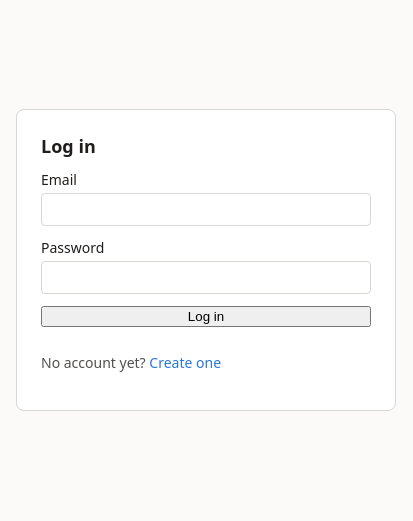
Test: LoginGate › signs up with name, email and password only, then says approval is needed
The image size is (413, 521).
Step 1. Click the button "Create one" → x=185, y=362, box [149,353,221,372]
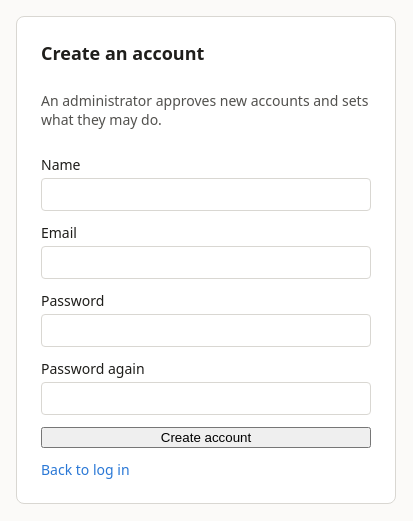
Step 2. Type "Kim Lee" into the field labelled "Name" → x=206, y=194, box [41,178,371,211]
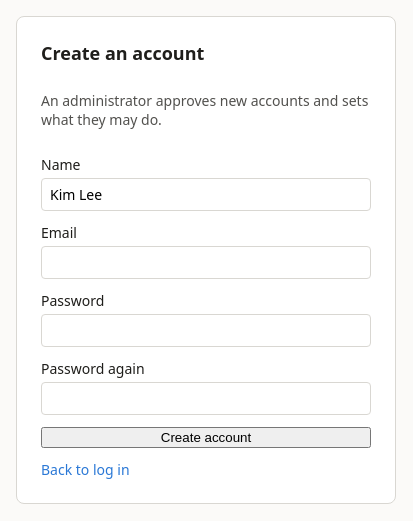
Step 3. Type "kim@example.test" into the field labelled "Email" → x=206, y=262, box [41,246,371,279]
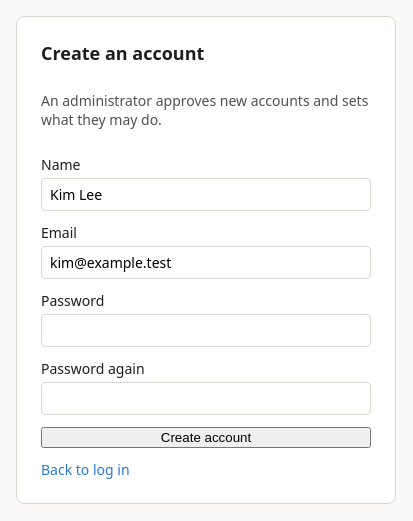
Step 4. Type "kim-pass-12" into the password field labelled "Password" → x=206, y=330, box [41,314,371,347]
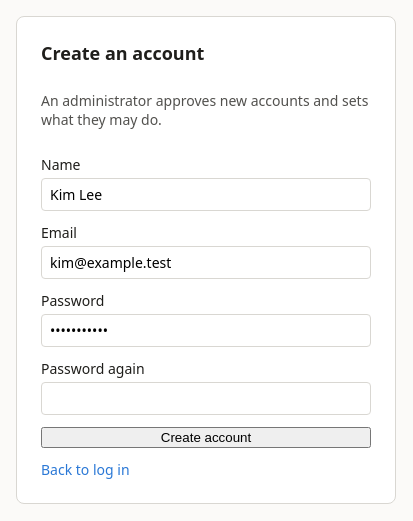
Step 5. Type "kim-pass-12" into the password field labelled "Password again" → x=206, y=398, box [41,382,371,415]
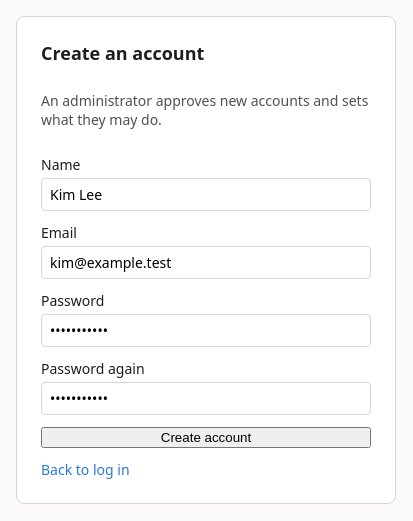
Step 6. Click the button "Create account" → x=206, y=438, box [41,427,371,448]
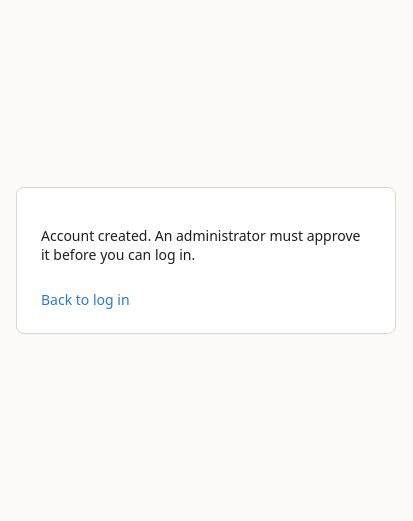
Expected: the message shows "must approve it", [41,226,360,264]
